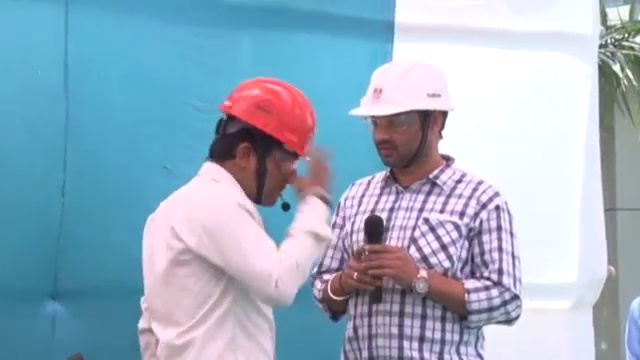helmet: (219, 76, 318, 164), (345, 61, 454, 116)
helmet_on: (203, 75, 318, 215), (343, 60, 457, 184)
person: (310, 61, 525, 360), (136, 75, 334, 360)
